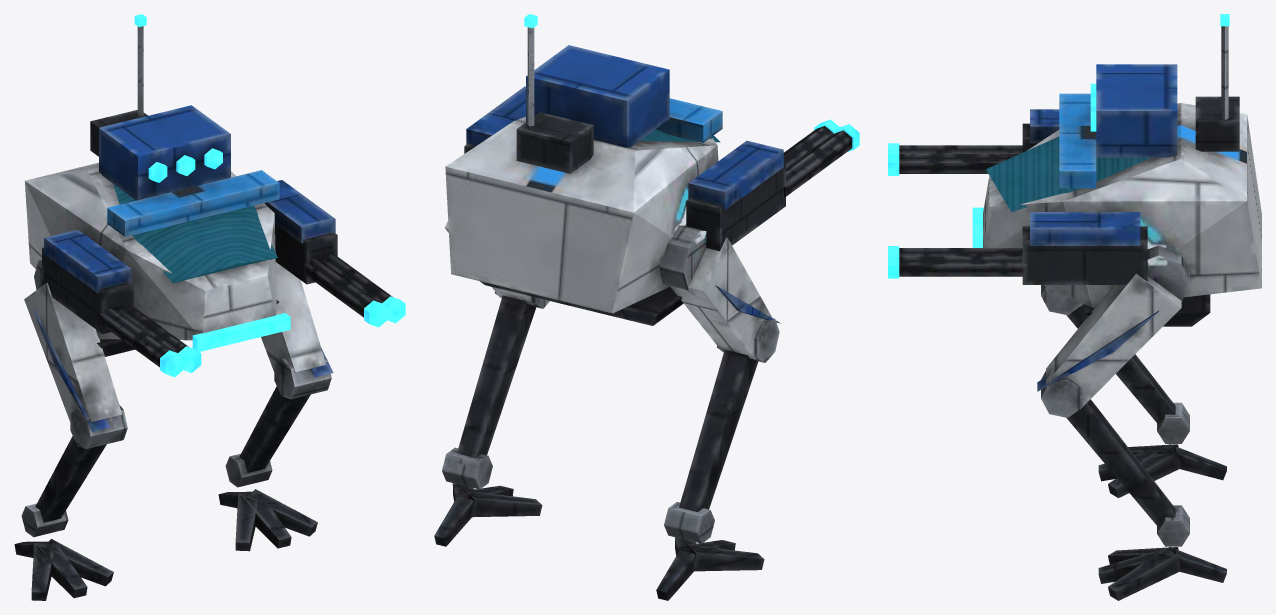
Rendered from u_ranger2_w.glb.
The picture shows the model from 3 angles, left to right: view 1: azimuth 30°, elevation 25°; view 2: azimuth 150°, elevation 25°; view 3: azimuth 270°, elevation 25°; orthographic projection. The views are drawn at different scales.
Visible parts, largest first — view 1: u_ranger2_w; view 2: u_ranger2_w; view 3: u_ranger2_w.
Part boxes in pixels (x1,y1,x2,y2): u_ranger2_w: [14, 14, 405, 600]; u_ranger2_w: [434, 14, 859, 600]; u_ranger2_w: [888, 14, 1261, 600].
Size of the model in its own units: 1.04 by 1.76 by 1.14.
Materials: 1 (1 with a texture image).
